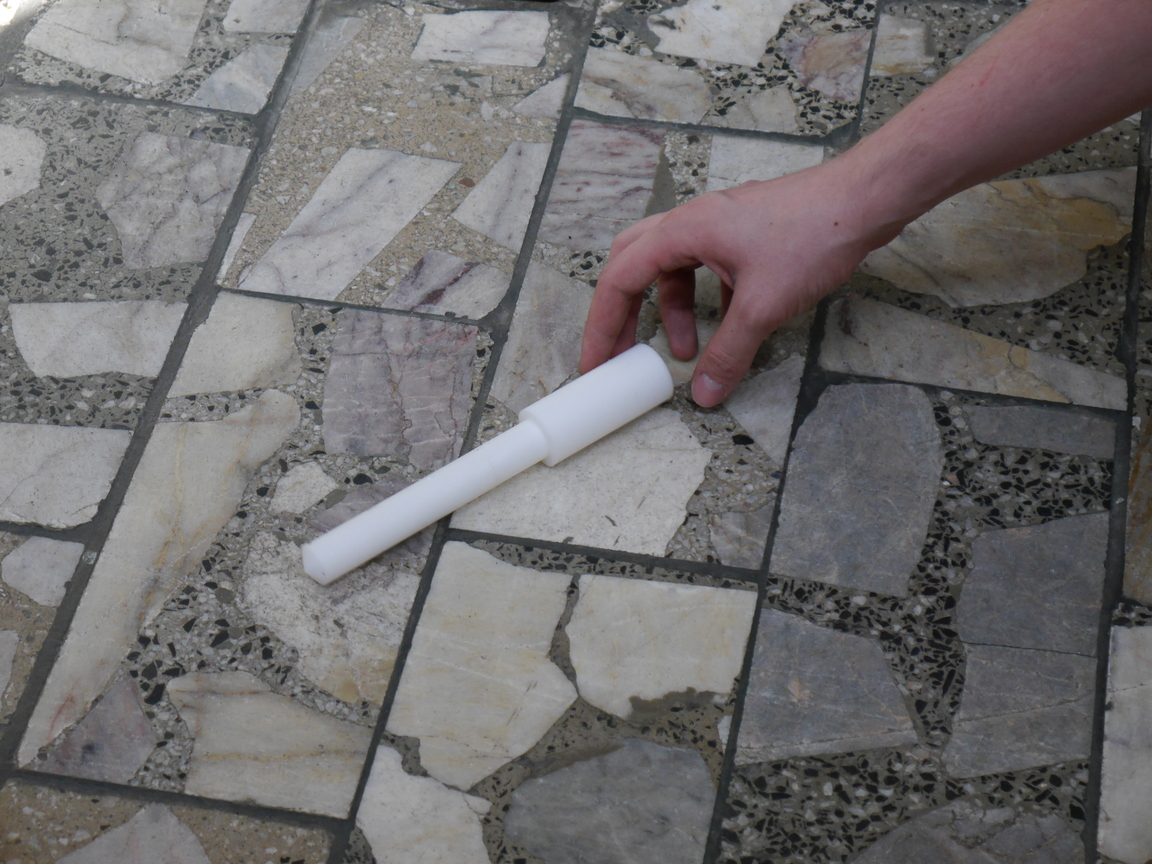cargo_g: (301, 339, 675, 587)
